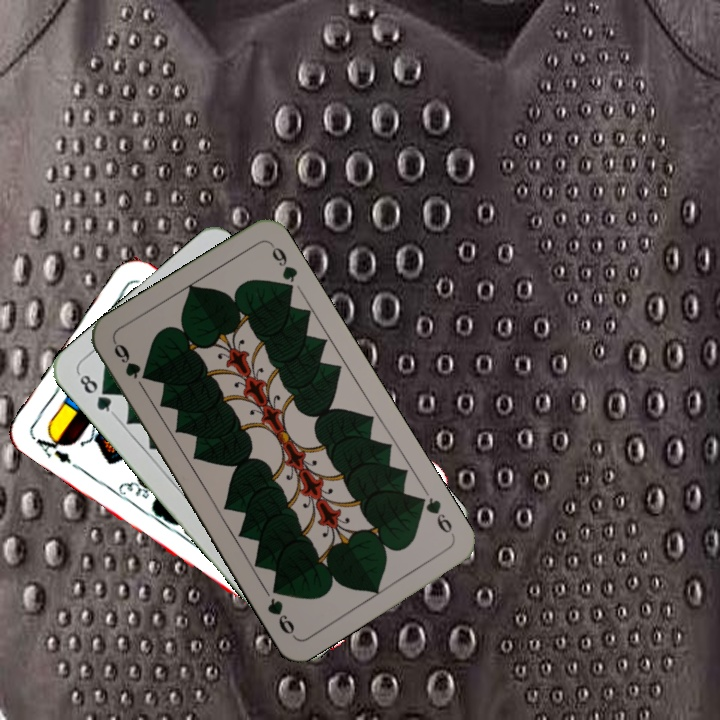EA: (28, 428, 74, 466)
G8: (74, 369, 118, 418)
G9: (412, 492, 457, 540), (109, 338, 144, 382)
